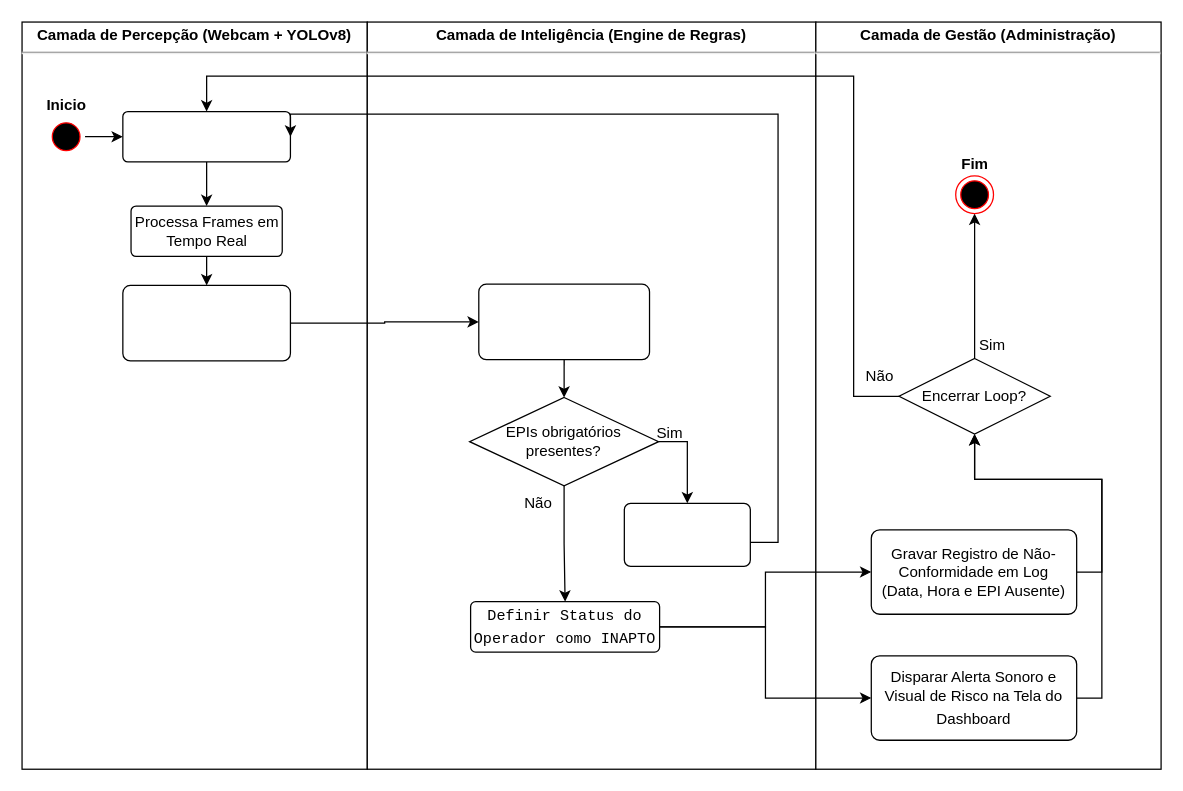
Some shapes in this 1183 by 791 pixel diagram are drawn without their labels. Each missing label, with the centre of its shape:
Captura Stream de Vídeo da Webcam: point 206,136
Cruza EPIs Detectados com Exigências do Perfil da Função: point 564,321
Define Status do Operador como APTO: point 686,534
Executa Inferência de Detecção buscar EPIs Prioritários: point 206,322
